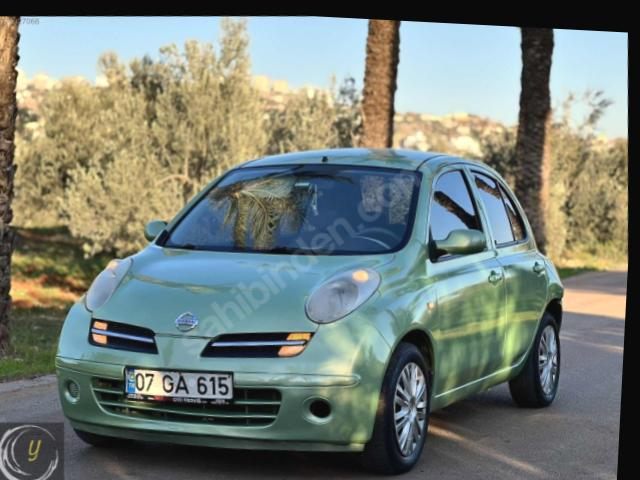plaka: (125, 368, 232, 403)
